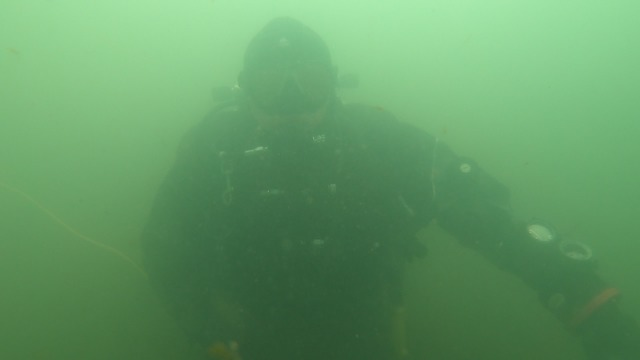Diver: (125, 13, 639, 359)
Head: (236, 9, 352, 167)
